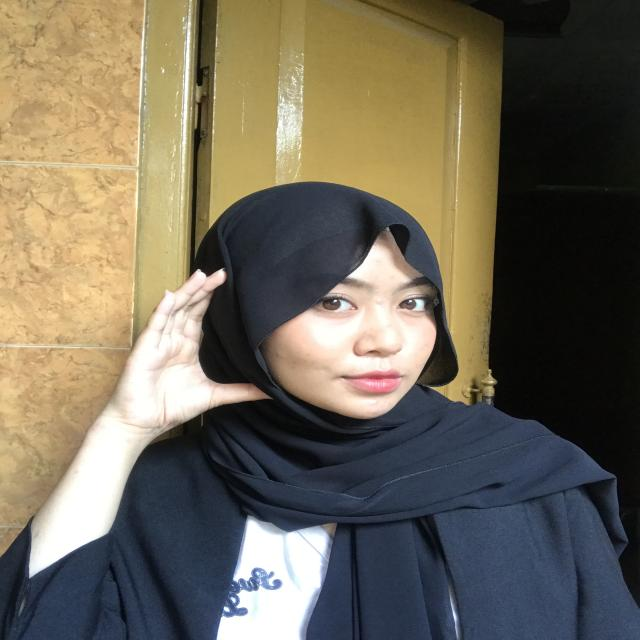mendengar: (80, 253, 292, 423)
